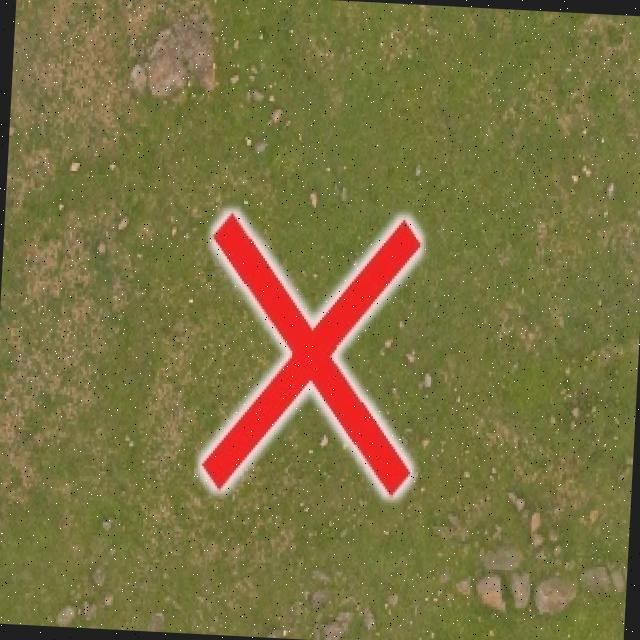x_marker: (200, 209, 422, 497)
